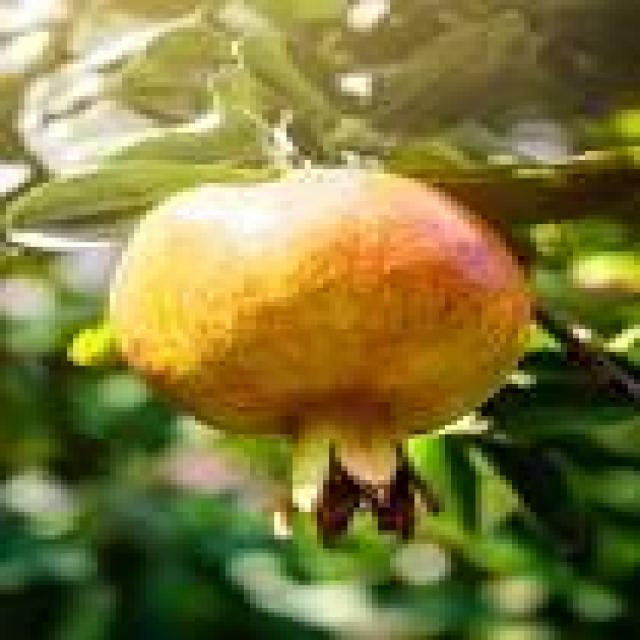Unripe: (106, 164, 531, 543)
